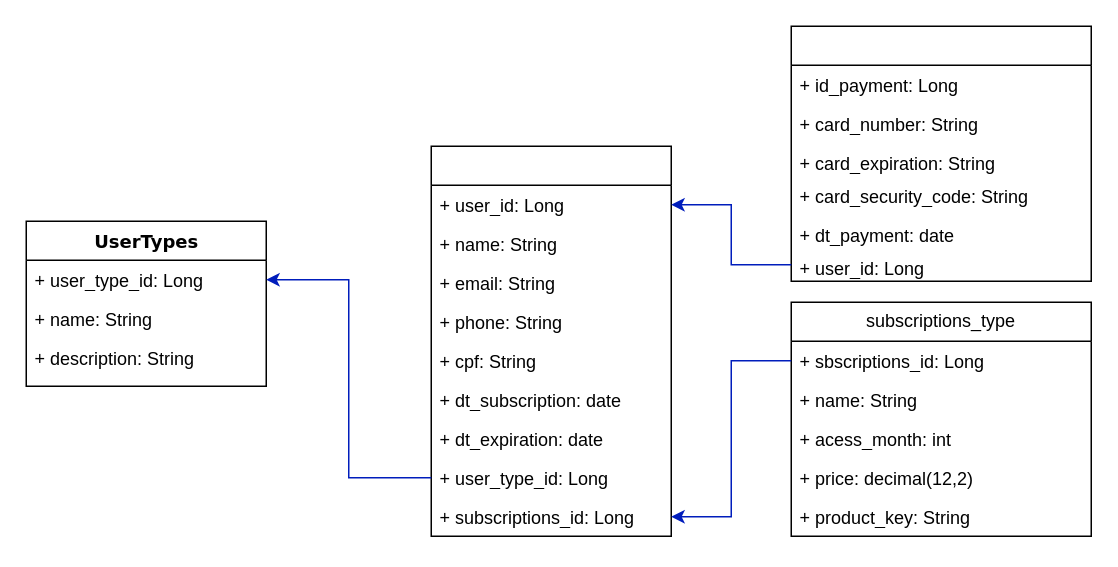
This 1118x567 diagram has some shape labels left out. The box of each missing label's shape, as (x1, y1, x2, y2) in pixels:
user_payment_info: (790, 25, 1091, 281)
Users: (430, 145, 671, 536)
